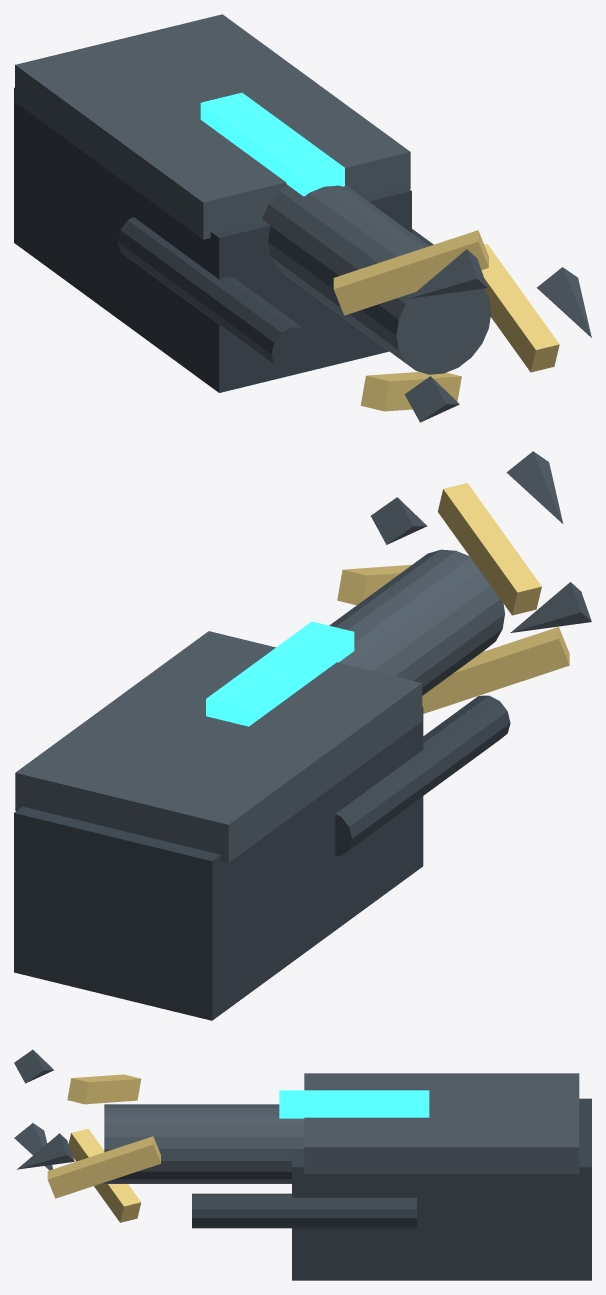
File: echo-grapple.glb
3 renders of one model, top to bottom at view 1: azimuth 30°, elevation 25°; view 2: azimuth 150°, elevation 25°; view 3: azimuth 270°, elevation 25°, orthographic. The views are drawn at different scales.
Visible parts, largest first — view 1: Armored_Cuff, Gauntlet_Chassis, Launcher_Barrel, Piston_-1, Ion_Capacitor_Display, Claw_1, Claw_0, Claw_2, Claw_Tip_1, Claw_Tip_0, Claw_Tip_2; view 2: Gauntlet_Chassis, Armored_Cuff, Launcher_Barrel, Piston_-1, Ion_Capacitor_Display, Claw_1, Claw_2, Claw_Tip_2, Claw_Tip_1, Claw_0, Claw_Tip_0; view 3: Gauntlet_Chassis, Armored_Cuff, Launcher_Barrel, Piston_1, Ion_Capacitor_Display, Claw_0, Claw_2, Claw_1, Claw_Tip_0, Claw_Tip_1, Claw_Tip_2.
Part boxes in pixels (x1,y1,x2,y2): Armored_Cuff: (15, 14, 410, 239); Gauntlet_Chassis: (14, 87, 411, 392); Launcher_Barrel: (262, 184, 491, 374); Piston_-1: (117, 217, 312, 370); Ion_Capacitor_Display: (200, 92, 344, 196); Claw_1: (333, 230, 488, 315); Claw_0: (481, 243, 559, 372); Claw_2: (360, 372, 461, 411); Claw_Tip_1: (408, 249, 487, 298); Claw_Tip_0: (537, 267, 591, 337); Claw_Tip_2: (404, 376, 459, 422); Gauntlet_Chassis: (14, 706, 423, 1020); Armored_Cuff: (15, 631, 422, 862); Launcher_Barrel: (329, 549, 504, 695); Piston_-1: (335, 695, 510, 855); Ion_Capacitor_Display: (206, 621, 354, 726); Claw_1: (438, 483, 541, 615); Claw_2: (422, 627, 569, 713); Claw_Tip_2: (510, 582, 591, 632); Claw_Tip_1: (506, 451, 563, 523); Claw_0: (337, 564, 411, 605); Claw_Tip_0: (371, 497, 427, 544); Gauntlet_Chassis: (292, 1098, 591, 1280); Armored_Cuff: (304, 1073, 579, 1174); Launcher_Barrel: (104, 1104, 304, 1183); Piston_1: (192, 1193, 416, 1228); Ion_Capacitor_Display: (279, 1090, 429, 1118); Claw_0: (47, 1136, 160, 1198); Claw_2: (68, 1128, 141, 1222); Claw_1: (67, 1074, 141, 1104); Claw_Tip_0: (17, 1133, 74, 1169); Claw_Tip_1: (14, 1049, 53, 1083); Claw_Tip_2: (14, 1123, 52, 1170).
Bounding box in the file's own units: 0.152 × 0.1655 × 0.4623.
